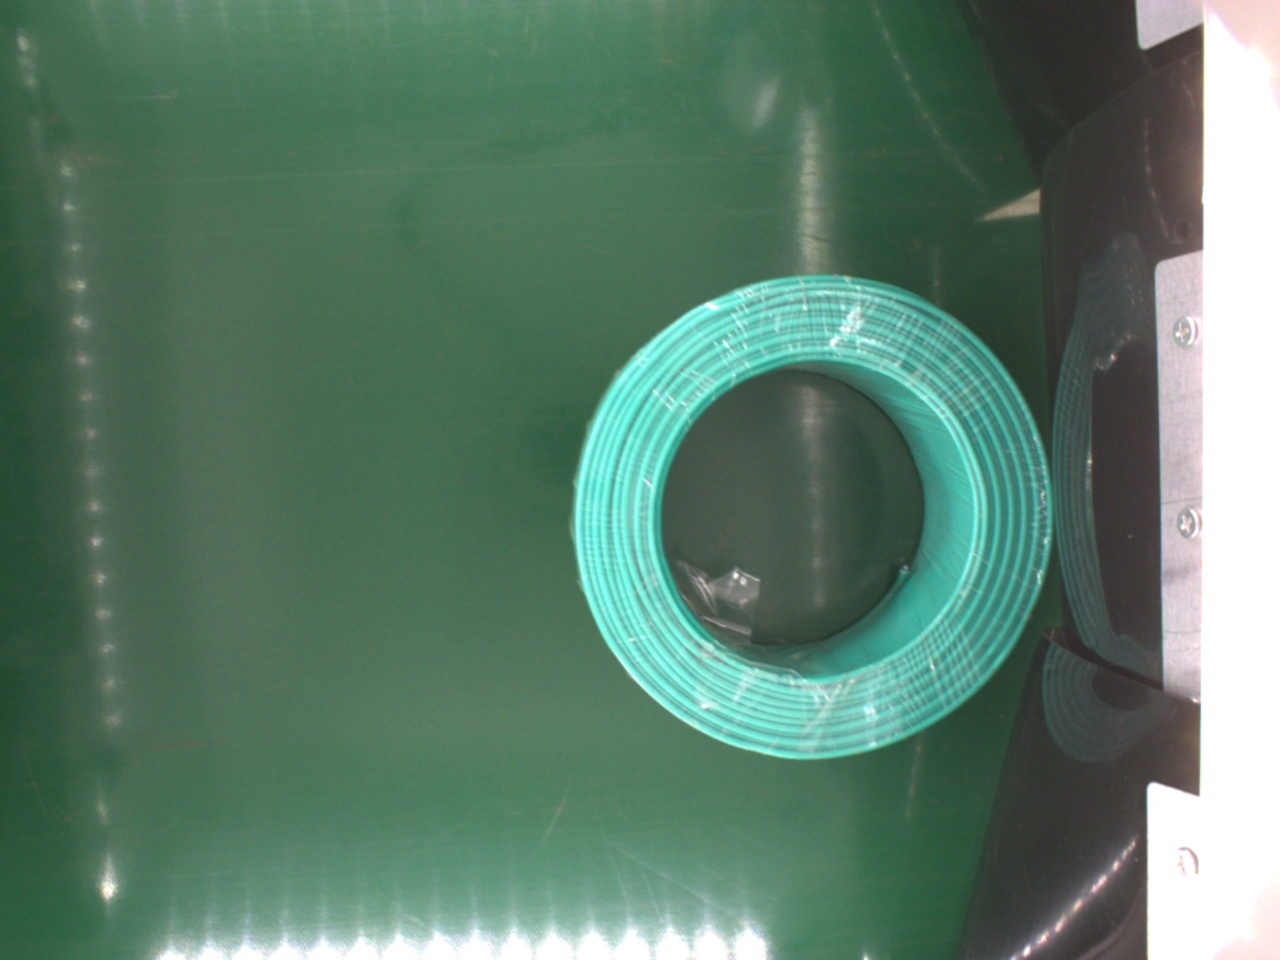green: (566, 275, 1058, 762)
